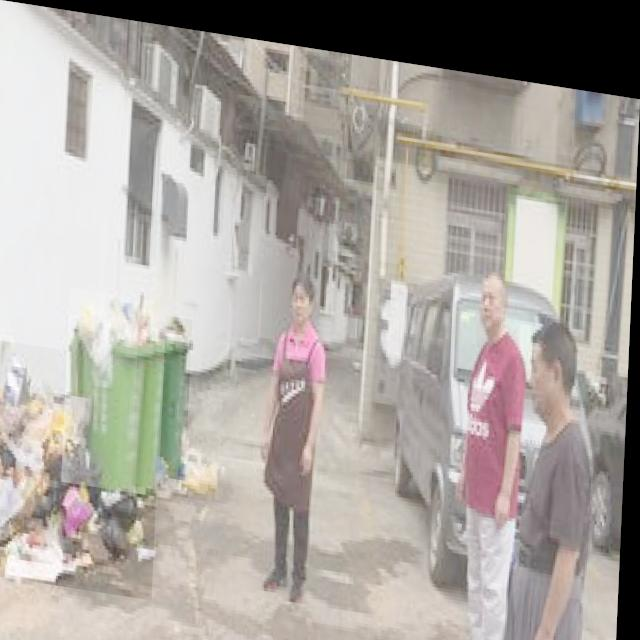garbage: (0, 338, 165, 595), (157, 416, 221, 495)
overflow: (66, 285, 156, 489), (136, 314, 174, 485), (163, 310, 195, 467)
